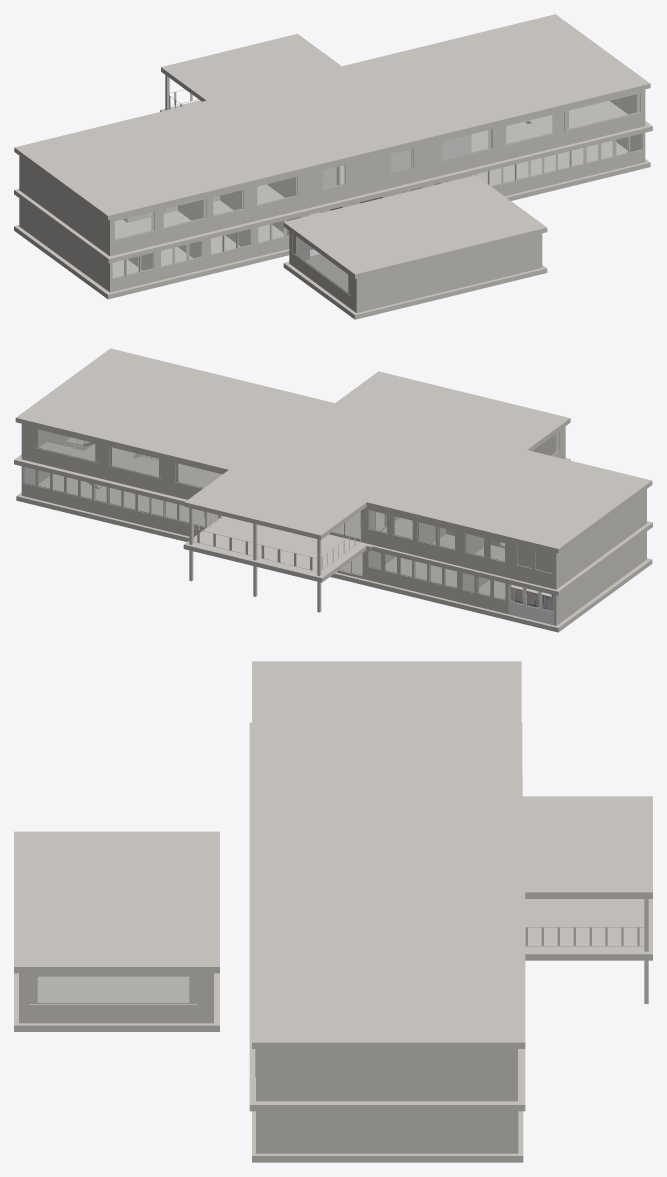
File: visual_space_walk.glb
The picture shows the model from 3 angles, top to bottom: view 1: azimuth 30°, elevation 25°; view 2: azimuth 150°, elevation 25°; view 3: azimuth 270°, elevation 25°; orthographic projection. The views are drawn at different scales.
Visible parts, largest first — view 1: BEYOND_L2_SLAB, BEYOND_L1_WALL, BEYOND_L0_WALL, BEYOND_L0_SLAB, BEYOND_L1_SLAB, BEYOND_L1_GLASS, BEYOND_L0_GLASS, BEYOND_L1_FRAME, UPPER_in_zone, BEYOND_L0_FRAME, BEYOND_L1_OTHER, BEYOND_L0_OTHER; view 2: BEYOND_L2_SLAB, BEYOND_L1_SLAB, BEYOND_L1_WALL, BEYOND_L0_WALL, BEYOND_L0_SLAB, BEYOND_L1_GLASS, BEYOND_L0_GLASS, UPPER_in_zone, BEYOND_L1_FRAME, BEYOND_L0_FRAME, BEYOND_L1_OTHER, BAKE_wall_north (+6 smaller); view 3: BEYOND_L2_SLAB, BEYOND_L0_WALL, BEYOND_L1_WALL, BEYOND_L1_SLAB, BEYOND_L0_SLAB, BEYOND_L0_GLASS, UPPER_in_zone, BEYOND_L0_FRAME.
Part boxes in pixels (box(x1,y1,x2,y2)): BEYOND_L2_SLAB: box(14, 14, 650, 278); BEYOND_L1_WALL: box(19, 89, 645, 256); BEYOND_L0_WALL: box(19, 133, 645, 313); BEYOND_L0_SLAB: box(14, 122, 650, 319); BEYOND_L1_SLAB: box(14, 100, 652, 263); BEYOND_L1_GLASS: box(115, 94, 636, 238); BEYOND_L0_GLASS: box(113, 134, 641, 291); BEYOND_L1_FRAME: box(113, 93, 640, 240); UPPER_in_zone: box(22, 135, 103, 173); BEYOND_L0_FRAME: box(112, 134, 642, 295); BEYOND_L1_OTHER: box(112, 89, 641, 240); BEYOND_L0_OTHER: box(124, 133, 642, 295); BEYOND_L2_SLAB: box(15, 348, 652, 553); BEYOND_L1_SLAB: box(14, 442, 652, 596); BEYOND_L1_WALL: box(21, 424, 646, 589); BEYOND_L0_WALL: box(21, 426, 646, 625); BEYOND_L0_SLAB: box(16, 444, 652, 632); BEYOND_L1_GLASS: box(38, 429, 504, 560); BEYOND_L0_GLASS: box(24, 434, 555, 598); UPPER_in_zone: box(508, 509, 589, 588); BEYOND_L1_FRAME: box(34, 428, 505, 561); BEYOND_L0_FRAME: box(23, 431, 558, 600); BEYOND_L1_OTHER: box(34, 428, 505, 571); BAKE_wall_north: box(508, 584, 553, 625); BEYOND_L2_SLAB: box(14, 661, 652, 1048); BEYOND_L0_WALL: box(19, 973, 518, 1153); BEYOND_L1_WALL: box(256, 1049, 517, 1101); BEYOND_L1_SLAB: box(249, 722, 652, 1111); BEYOND_L0_SLAB: box(14, 775, 523, 1162); BEYOND_L0_GLASS: box(38, 977, 188, 1002); UPPER_in_zone: box(412, 665, 517, 697); BEYOND_L0_FRAME: box(29, 976, 197, 1003).
Bounding box in the file's own units: 38.22 × 5.6 × 27.
Materials: 13 (8 with a texture image).
